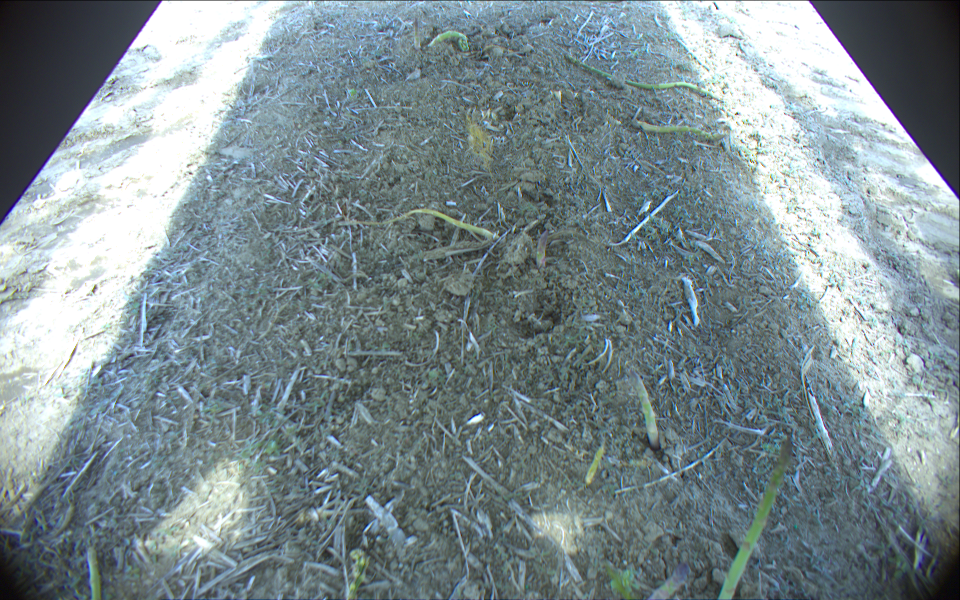aspa: (716, 435, 794, 600), (563, 54, 728, 105), (340, 208, 501, 239), (627, 367, 660, 448), (629, 120, 728, 144), (646, 561, 692, 600), (343, 548, 368, 600), (428, 31, 470, 53), (86, 547, 101, 600), (534, 228, 552, 271), (587, 445, 605, 485), (412, 14, 420, 50)
